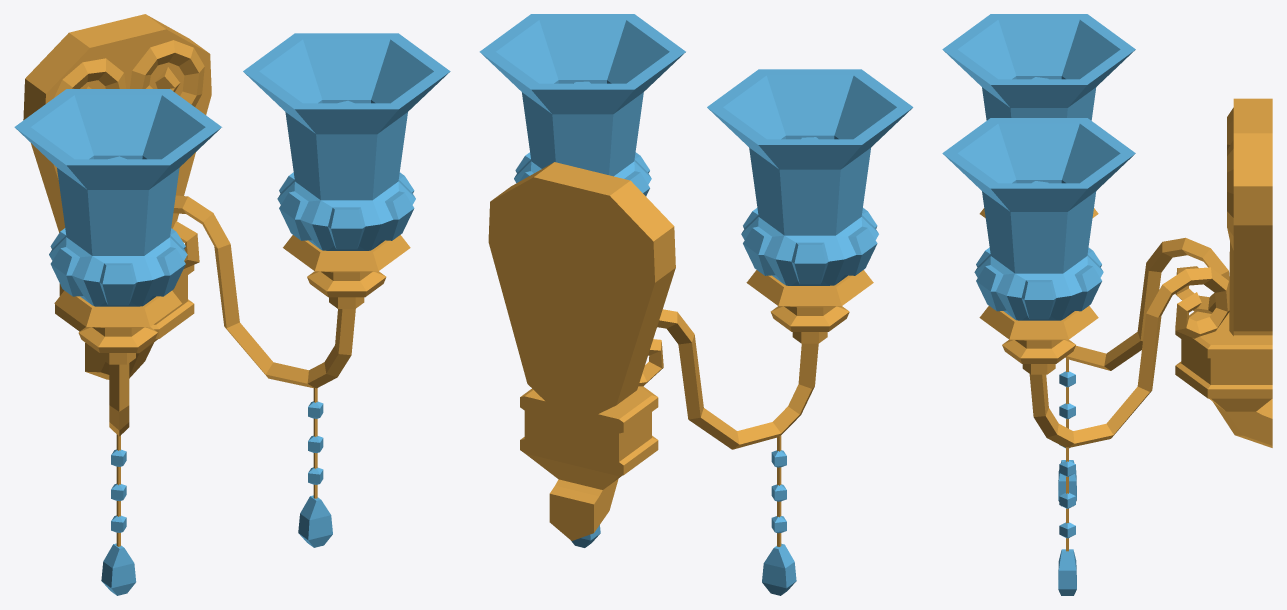
File: SM_Light_Wall_Victorian_A.fbx
3 renders of one model, left to right at view 1: azimuth 30°, elevation 25°; view 2: azimuth 150°, elevation 25°; view 3: azimuth 270°, elevation 25°, orthographic. The views are drawn at different scales.
Parts seen in each view (by area): view 1: light-wall-victorian-a; view 2: light-wall-victorian-a; view 3: light-wall-victorian-a.
Boxes of the visible parts, x1=… form: light-wall-victorian-a: x1=14, y1=14, x2=450, y2=595; light-wall-victorian-a: x1=479, y1=14, x2=913, y2=595; light-wall-victorian-a: x1=942, y1=14, x2=1272, y2=595.
Size of the model in its own units: 0.4192 by 0.5004 by 0.3349.
